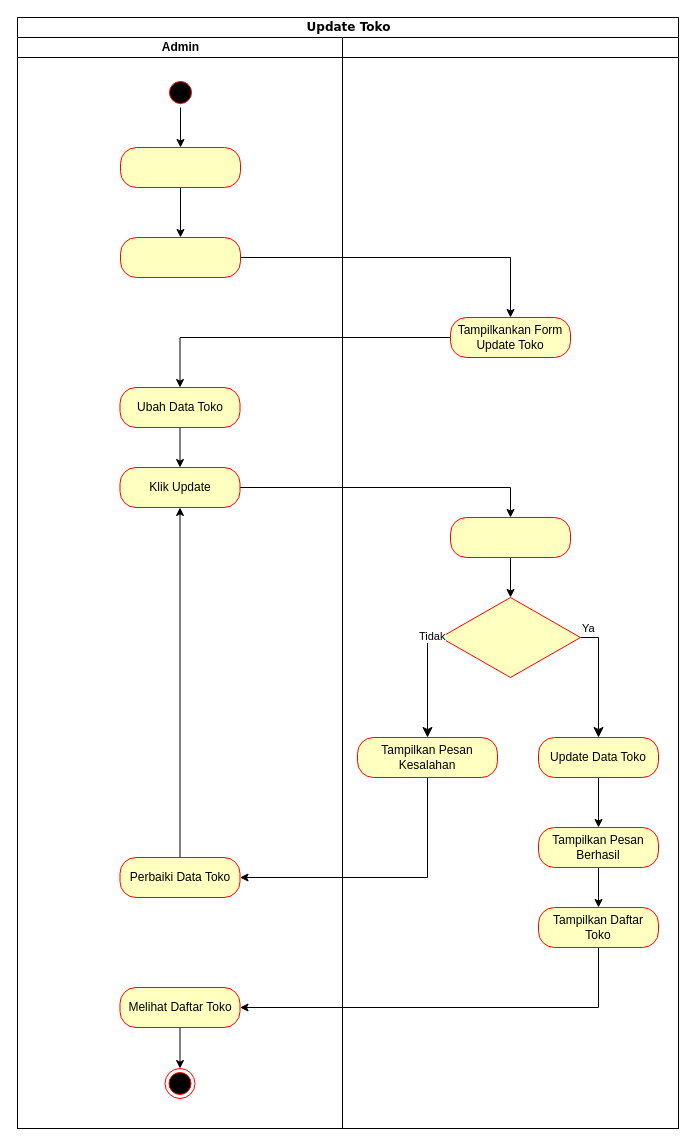
This 696x1146 diagram has some shape labels left out. The box of each missing label's shape, as (x1, y1, x2, y2) in pixels:
Data Valid?: (440, 596, 580, 678)
Klik Update Toko: (120, 236, 240, 278)
Pilih Menu Toko: (120, 146, 240, 188)
System: (342, 36, 678, 1128)
Validasi Data: (450, 516, 570, 558)
